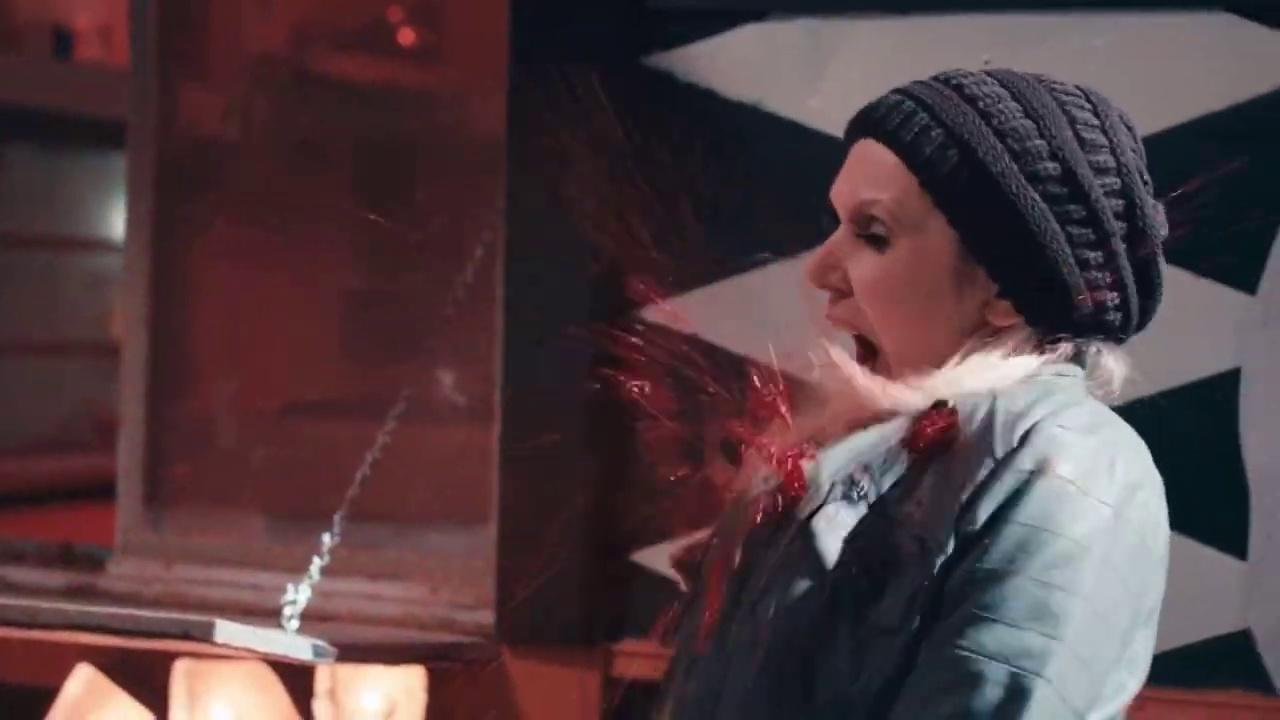Fire: (499, 62, 844, 645), (902, 409, 966, 469)
